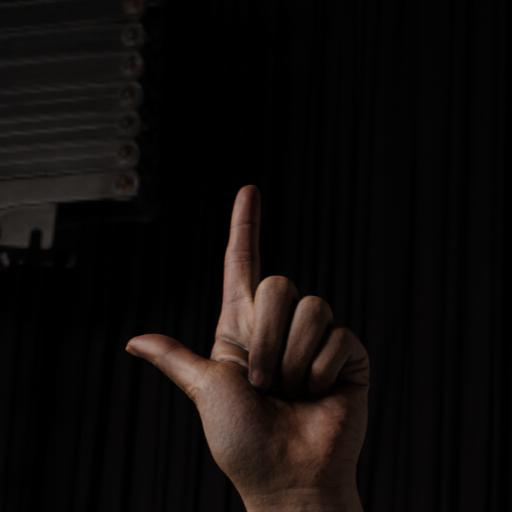L: (108, 171, 386, 512)
